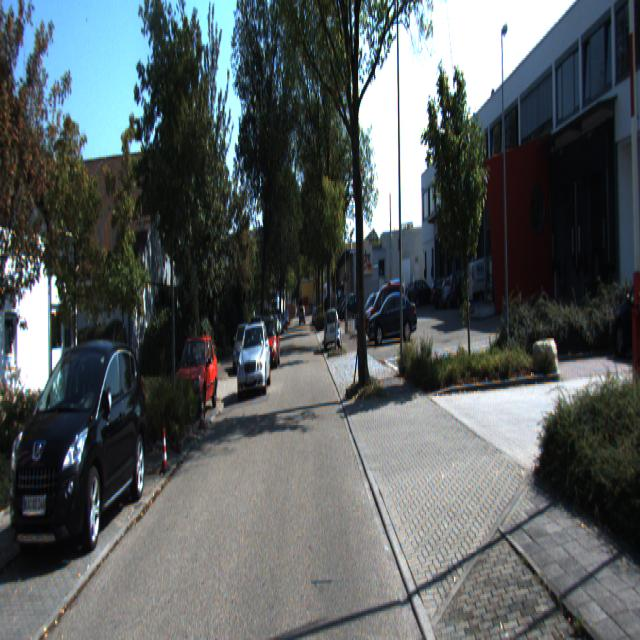Car: (8, 334, 151, 571), (170, 330, 219, 424), (235, 320, 272, 399), (365, 276, 409, 340), (466, 255, 514, 312), (367, 288, 419, 340), (324, 306, 340, 352)
